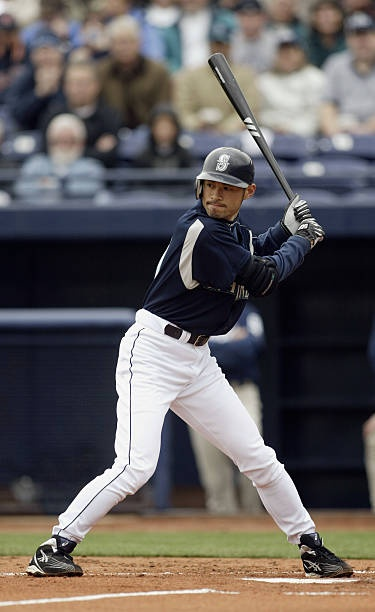bita: (209, 50, 317, 236)
